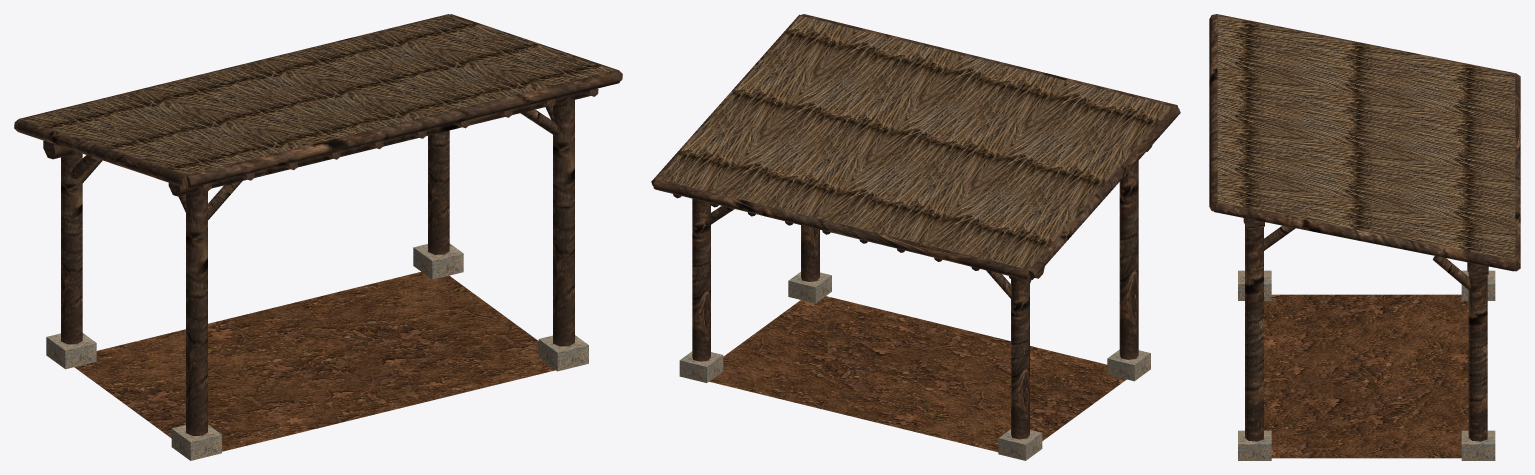
Rendered from workShelter.glb.
3 views of the same model, side by side, from view 1: azimuth 30°, elevation 25°; view 2: azimuth 150°, elevation 25°; view 3: azimuth 270°, elevation 25° (orthographic). The views are drawn at different scales.
Visible parts, largest first — view 1: part_0, part_3, part_2, part_1; view 2: part_3, part_0, part_2, part_1; view 3: part_3, part_0, part_2, part_1.
Boxes of the visible parts, x1,y1,x2,y2 form: part_0: (74, 272, 555, 451); part_3: (21, 15, 614, 174); part_2: (14, 14, 622, 435); part_1: (46, 243, 588, 460); part_3: (657, 16, 1172, 269); part_0: (709, 296, 1126, 451); part_2: (651, 14, 1180, 439); part_1: (679, 272, 1150, 460); part_3: (1217, 15, 1515, 260); part_0: (1264, 294, 1468, 458); part_2: (1209, 14, 1520, 441); part_1: (1238, 270, 1495, 460).
Bounding box in the file's own units: 3.23 × 2.11 × 2.21.
4 materials, 4 textured.
